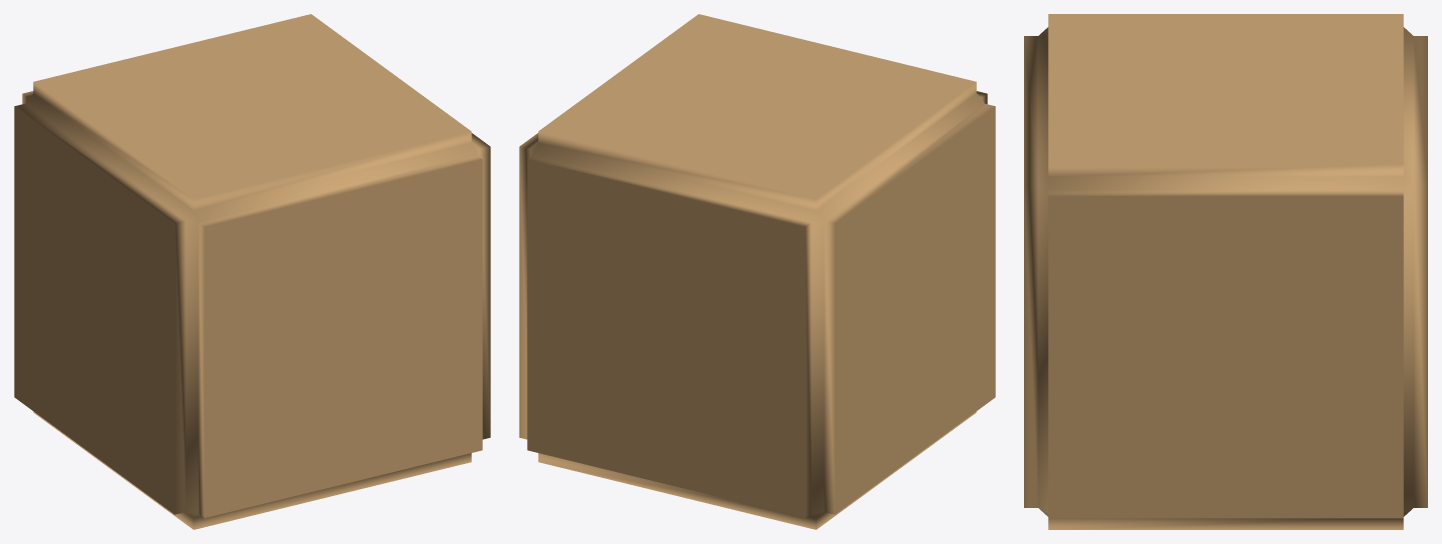
File: bevel_cube_wood.glb
3 views of the same model, side by side, from view 1: azimuth 30°, elevation 25°; view 2: azimuth 150°, elevation 25°; view 3: azimuth 270°, elevation 25° (orthographic). The views are drawn at different scales.
Visible parts, largest first — view 1: BevelCubeWood; view 2: BevelCubeWood; view 3: BevelCubeWood.
Boxes of the visible parts, bbox=[...] form: BevelCubeWood: bbox=[14, 14, 490, 529]; BevelCubeWood: bbox=[519, 14, 995, 529]; BevelCubeWood: bbox=[1024, 14, 1427, 529].
Bounding box in the file's own units: 1.25 × 1.25 × 1.25.
